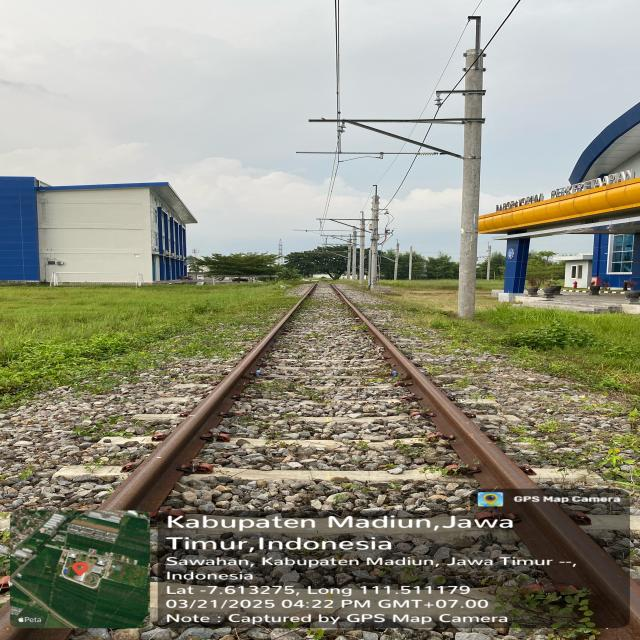rail-detection: (100, 284, 316, 510), (330, 284, 542, 497), (516, 499, 630, 616)
